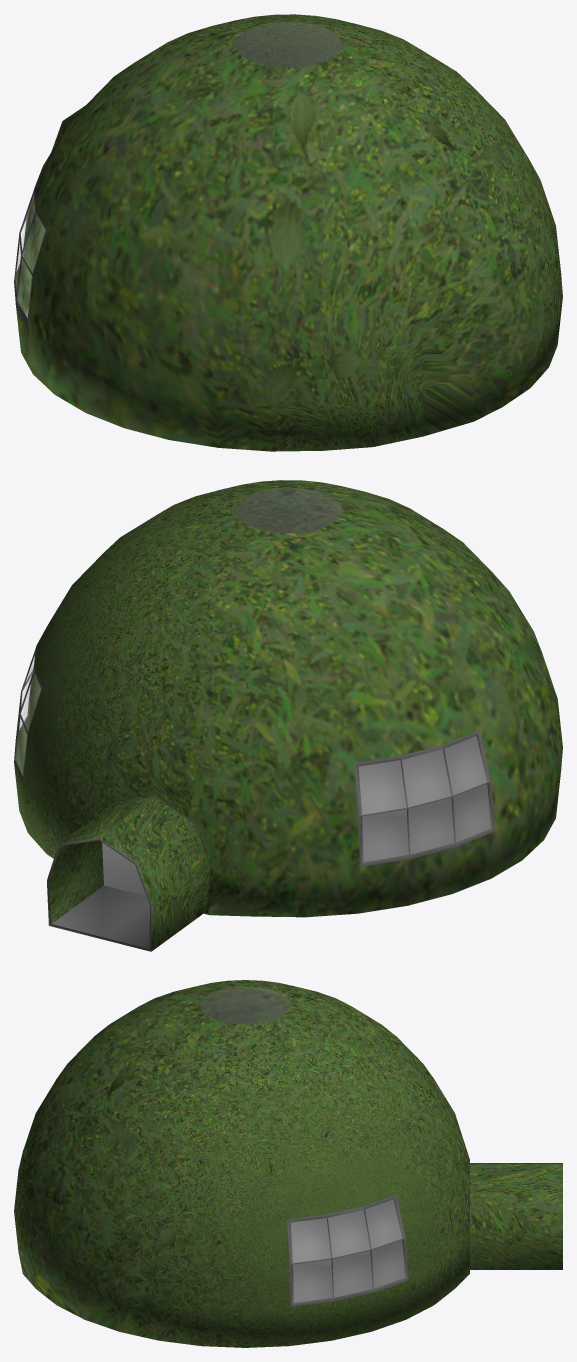
The model's file is low_poly_dome_domo_lowpoly.glb.
The picture shows the model from 3 angles, top to bottom: view 1: azimuth 30°, elevation 25°; view 2: azimuth 150°, elevation 25°; view 3: azimuth 270°, elevation 25°; orthographic projection. The views are drawn at different scales.
Parts seen in each view (by area): view 1: domo_0; view 2: domo_0; view 3: domo_0.
Part boxes in pixels (bbox=[...]): domo_0: bbox=[14, 14, 562, 451]; domo_0: bbox=[14, 480, 562, 951]; domo_0: bbox=[14, 980, 562, 1347].
Bounding box in the file's own units: 2 × 1.2 × 2.37.
Materials: 4 (1 with a texture image).
